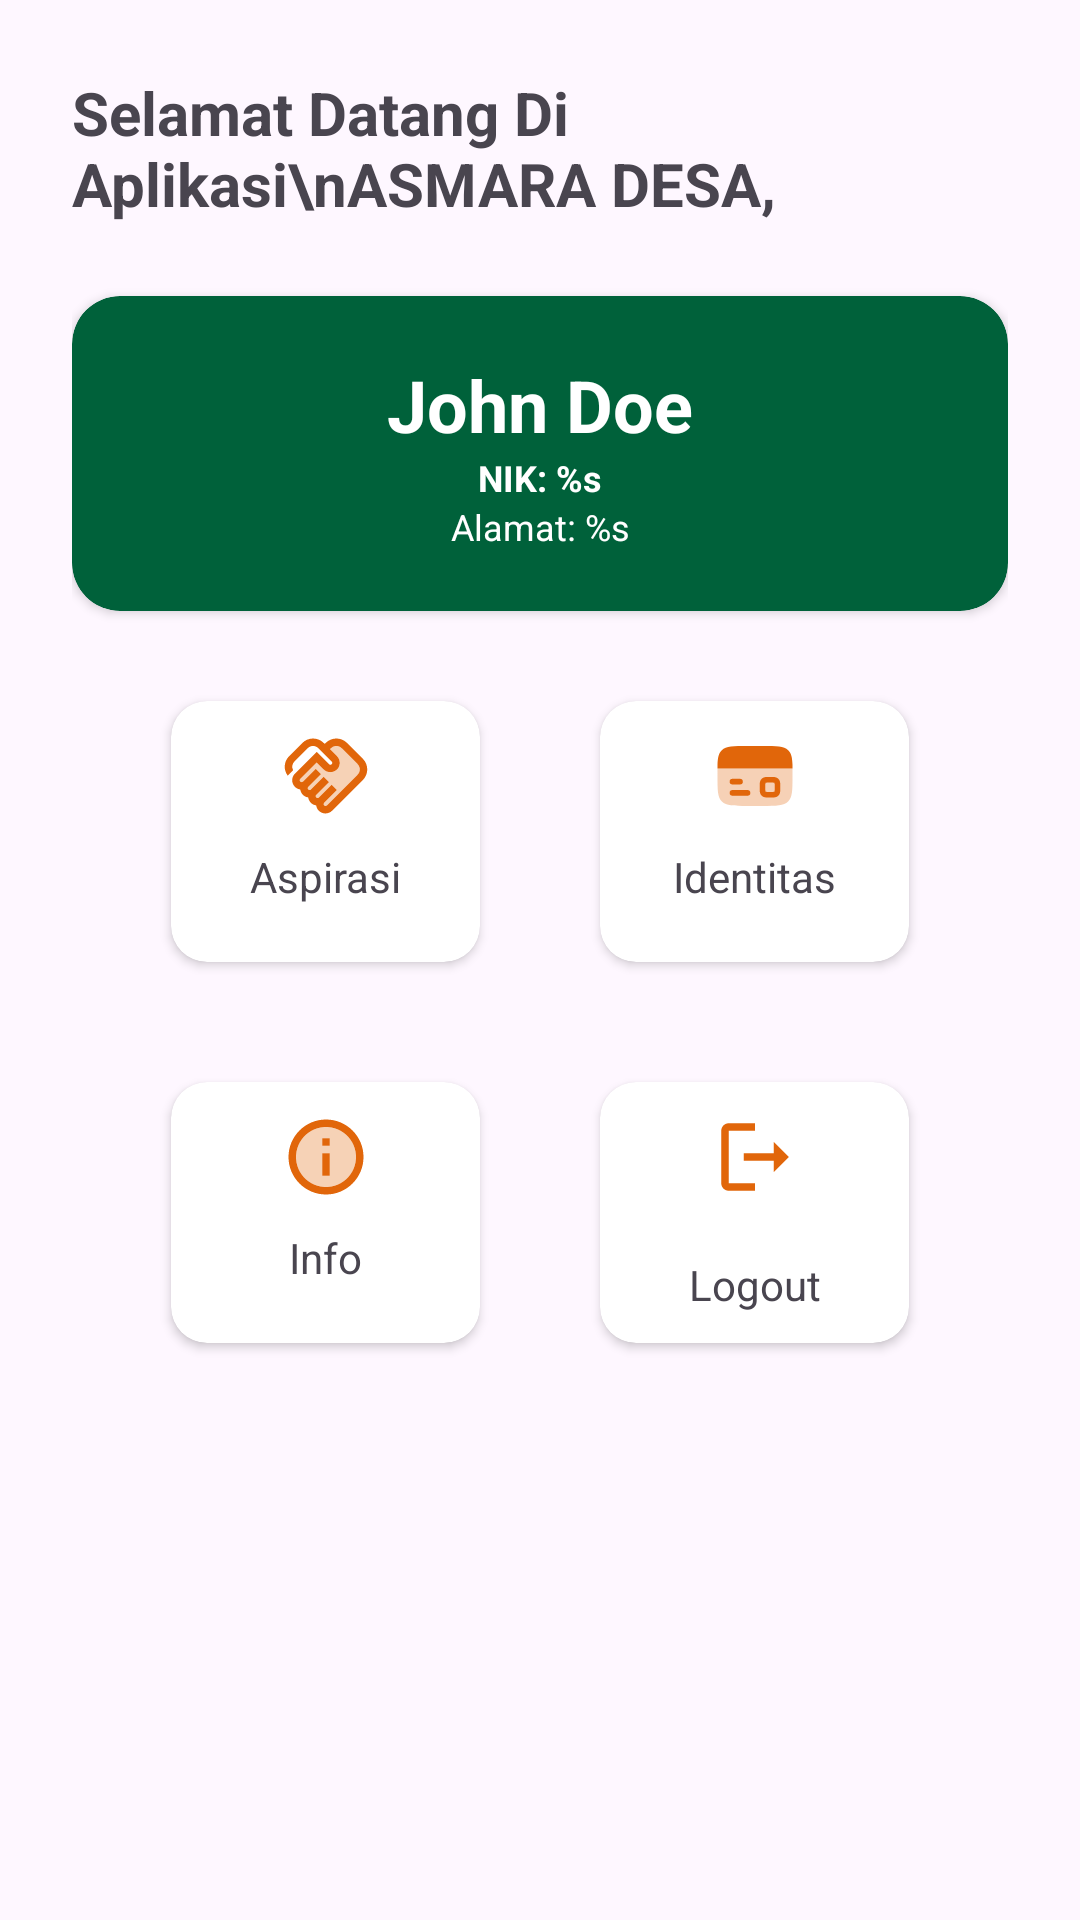

Icons on this 1080*1920 Android screen, each with the point to tap as (x,y):
card: (755,776)
handshake: (326,776)
